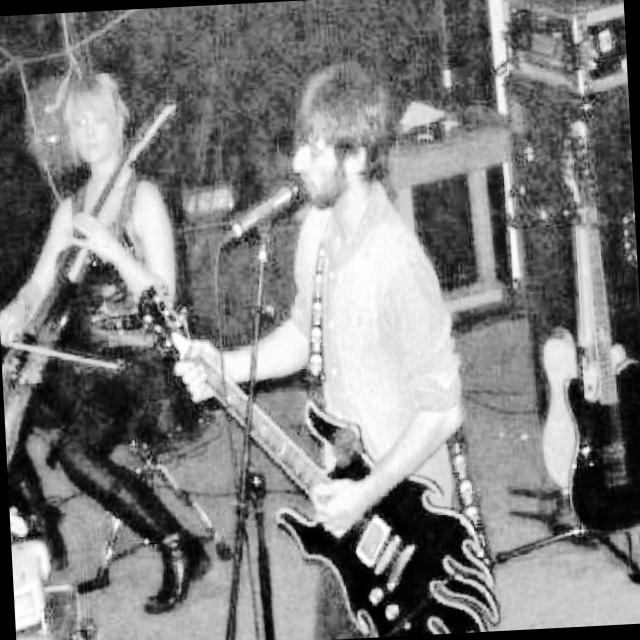Person: (161, 51, 477, 640), (0, 72, 195, 633)
